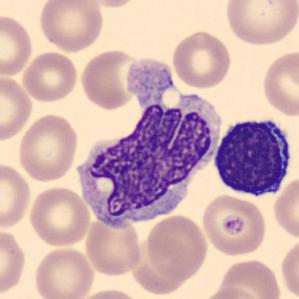Lymphocyte: (210, 113, 296, 200)
Monocyte: (75, 53, 226, 232)
Platelets: (220, 215, 250, 240)
RBC: (16, 111, 80, 184), (144, 213, 209, 281), (200, 193, 268, 257), (78, 47, 145, 111), (27, 185, 92, 248), (170, 28, 234, 90), (83, 215, 144, 277), (36, 0, 106, 54), (132, 236, 194, 296), (222, 0, 298, 48), (30, 244, 96, 299), (20, 50, 80, 104), (217, 257, 283, 299), (259, 48, 298, 117), (0, 73, 34, 142), (0, 12, 34, 78), (0, 160, 32, 230), (0, 227, 28, 297), (270, 174, 299, 240), (278, 235, 299, 299), (76, 286, 143, 299), (200, 286, 262, 299), (83, 0, 143, 9)
